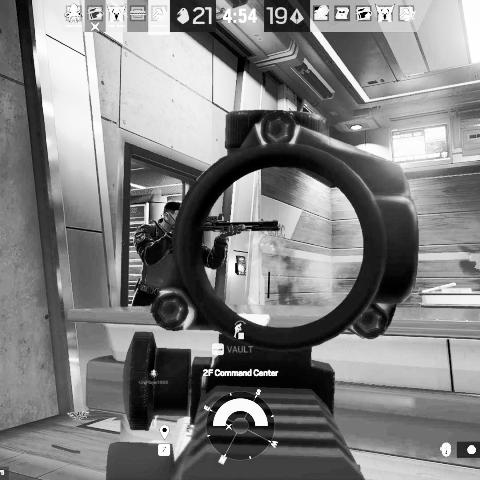Character: (133, 198, 281, 306)
Head: (162, 199, 181, 229)
